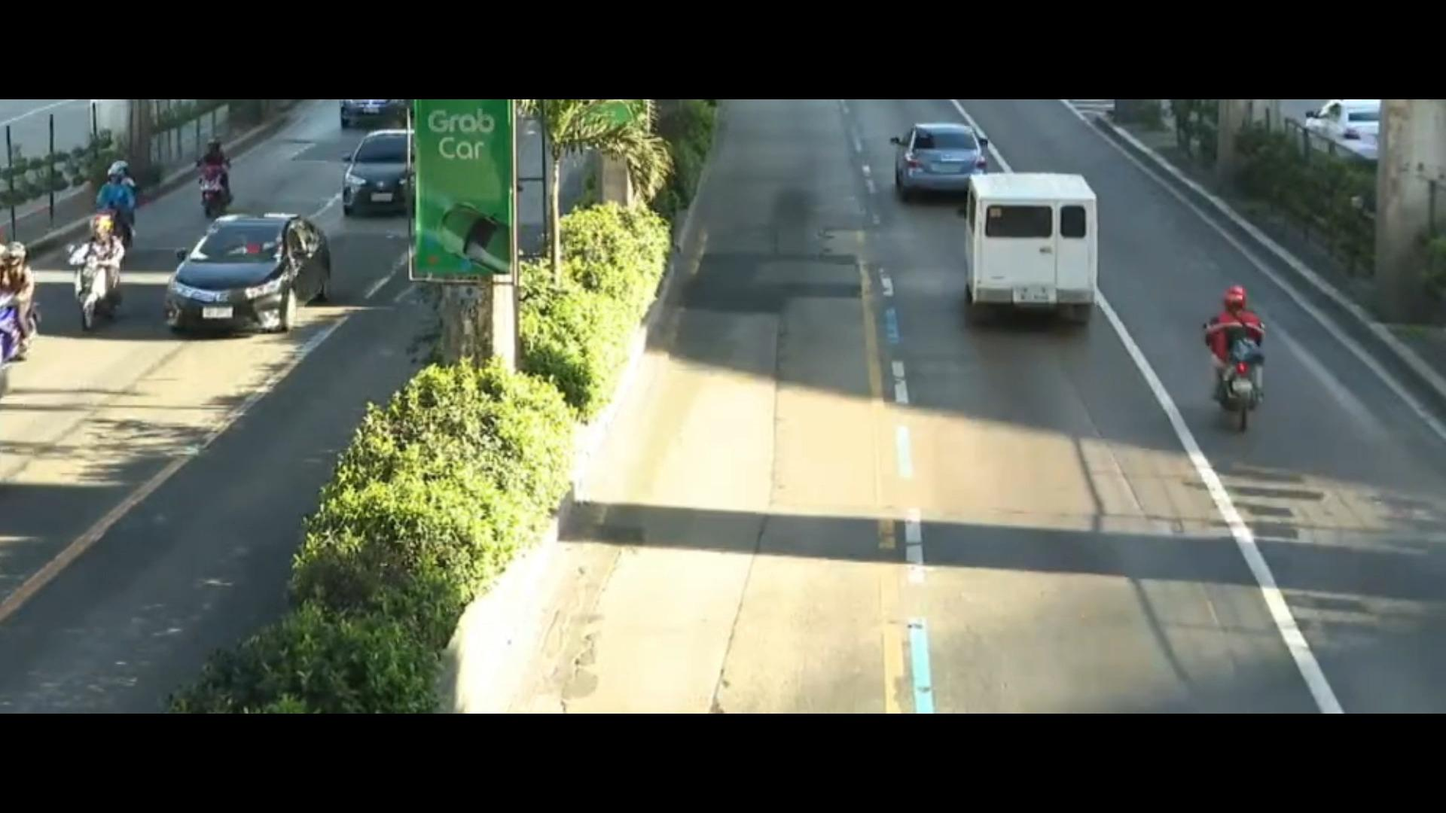Motorcycle: (1179, 272, 1280, 462), (60, 203, 139, 358), (0, 235, 60, 381), (84, 157, 172, 244), (182, 111, 255, 215)
Multicab: (926, 160, 1123, 333)
Sedan: (149, 196, 324, 352), (866, 110, 995, 208), (341, 128, 424, 218)
